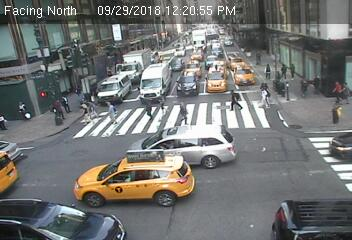car: (74, 151, 195, 206), (1, 197, 127, 240), (126, 125, 238, 169), (271, 196, 352, 240), (140, 64, 172, 105), (118, 51, 150, 83), (97, 74, 132, 102), (1, 148, 18, 194), (330, 130, 352, 159), (1, 141, 26, 162), (178, 74, 200, 96), (233, 64, 256, 85), (208, 70, 227, 92), (191, 29, 206, 49), (184, 60, 201, 75), (171, 56, 184, 71), (211, 42, 224, 57), (205, 53, 219, 65), (173, 44, 186, 56), (225, 38, 232, 45)
